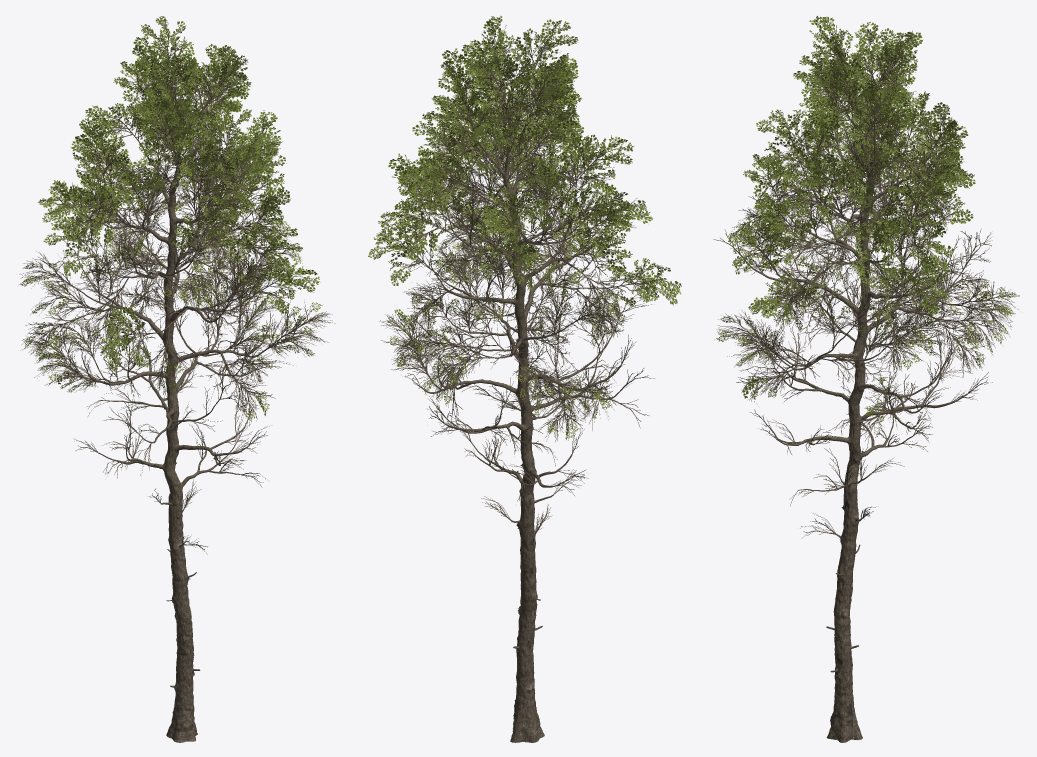
File: SM_BlackAlder_Forest_01.gltf
3 renders of one model, left to right at view 1: azimuth 30°, elevation 25°; view 2: azimuth 150°, elevation 25°; view 3: azimuth 270°, elevation 25°, orthographic. The views are drawn at different scales.
Visible parts, largest first — view 1: SM_BlackAlder_Forest_01; view 2: SM_BlackAlder_Forest_01; view 3: SM_BlackAlder_Forest_01.
Part boxes in pixels (box(x1,y1,x2,y2)): SM_BlackAlder_Forest_01: box(19, 16, 335, 742); SM_BlackAlder_Forest_01: box(368, 15, 681, 742); SM_BlackAlder_Forest_01: box(713, 16, 1019, 742).
Bounding box in the file's own units: 8.17 × 20.9 × 8.25.
3 materials, 3 textured.
